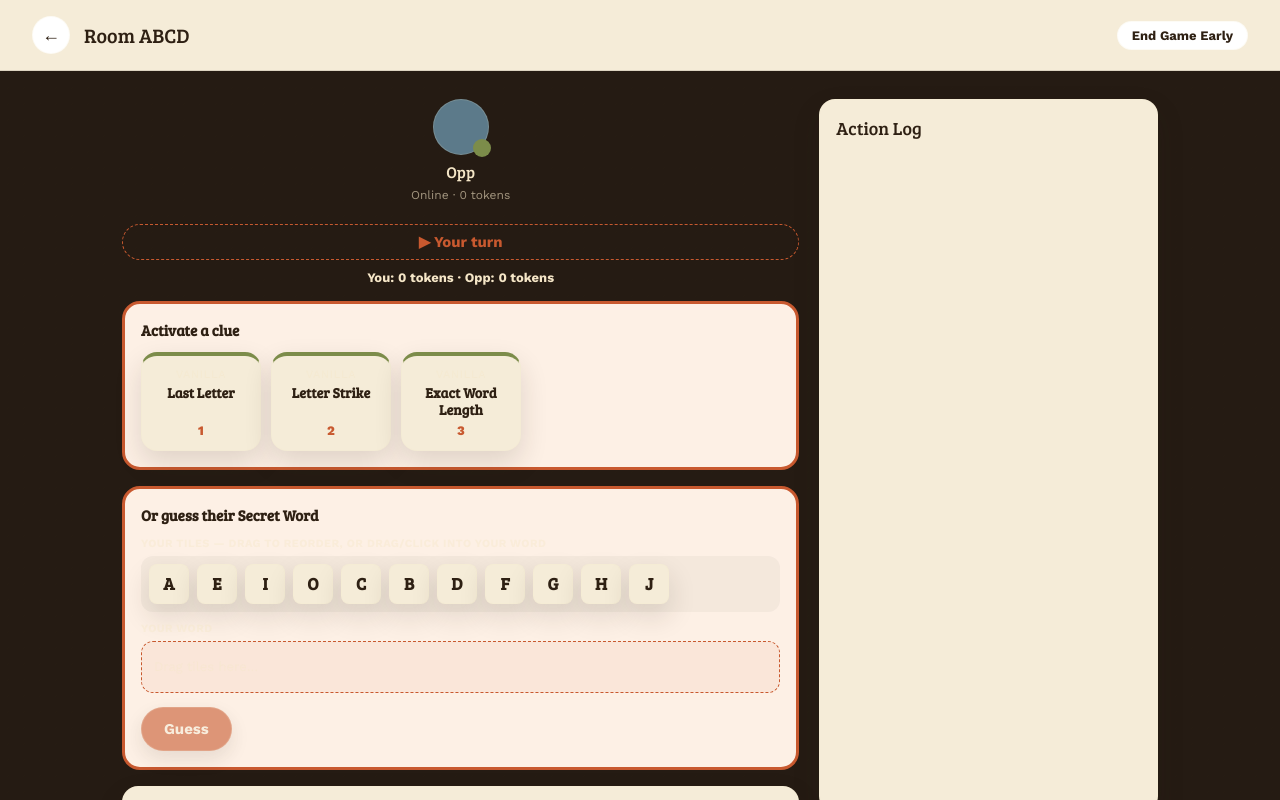
Test: WordyTableContainer › clueOrGuess: Cancel in the clue confirm modal closes it without activating
Click the text "Last Letter" at (201, 393), box top-left (167, 385), bottom-right (235, 402)
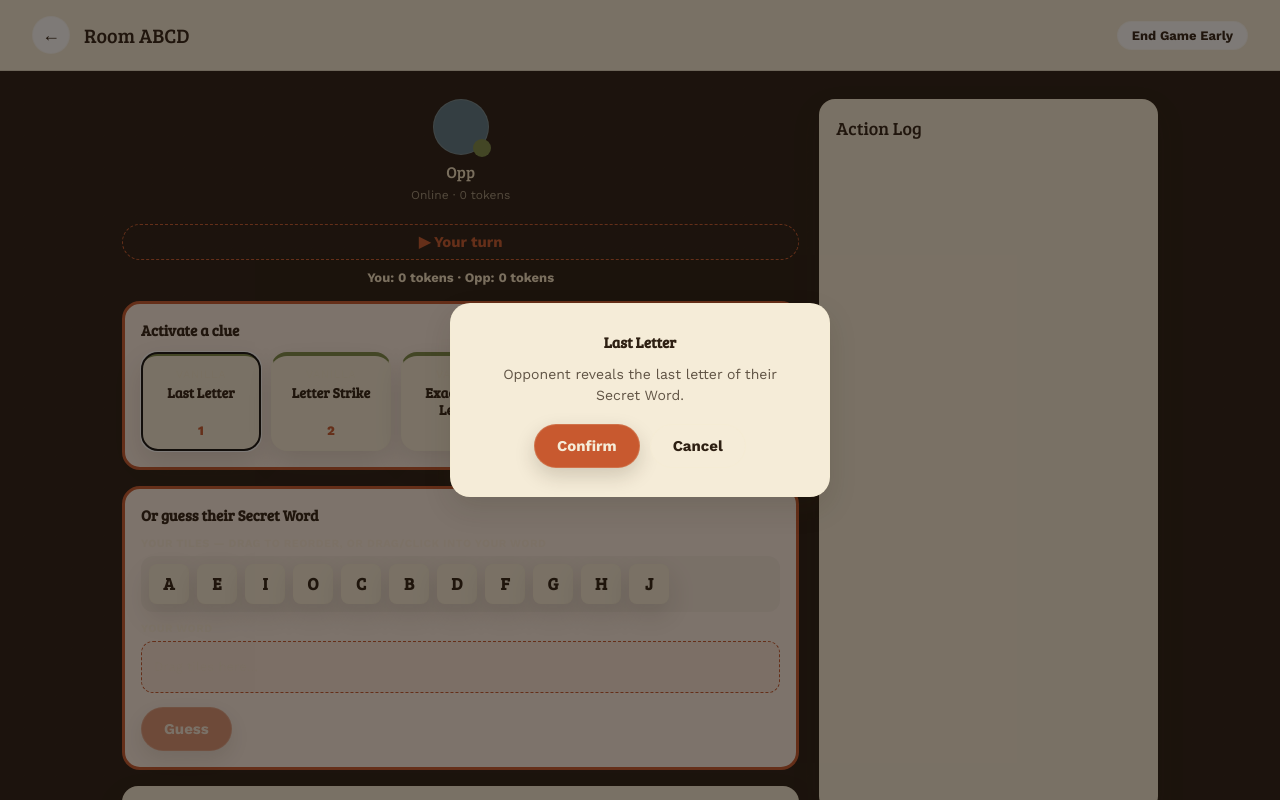
Click the button "Cancel" at (698, 446), box top-left (650, 424), bottom-right (746, 468)
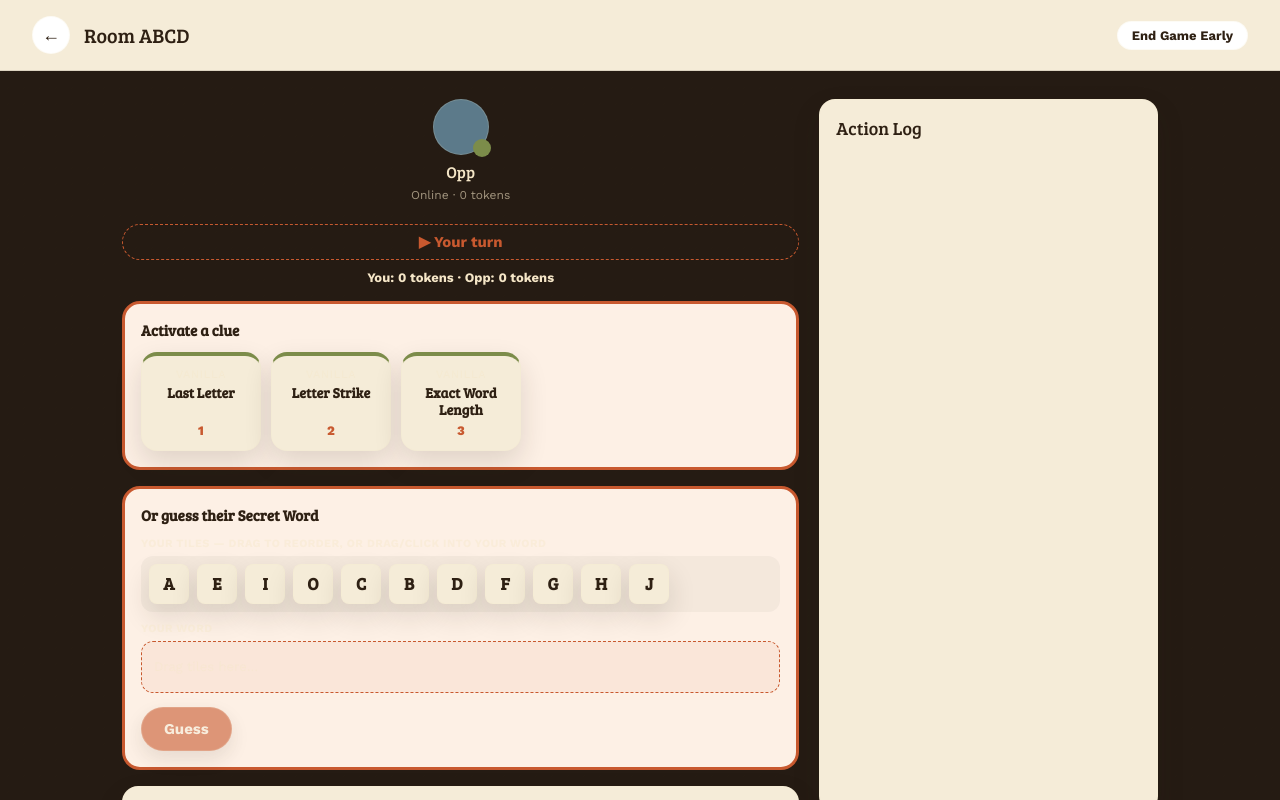
Check: the button "Confirm" is gone
